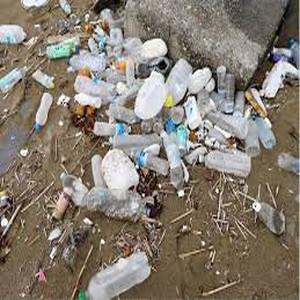Plastic: (198, 151, 254, 179), (164, 134, 188, 199), (250, 198, 286, 236), (33, 89, 53, 134), (258, 115, 277, 150)
